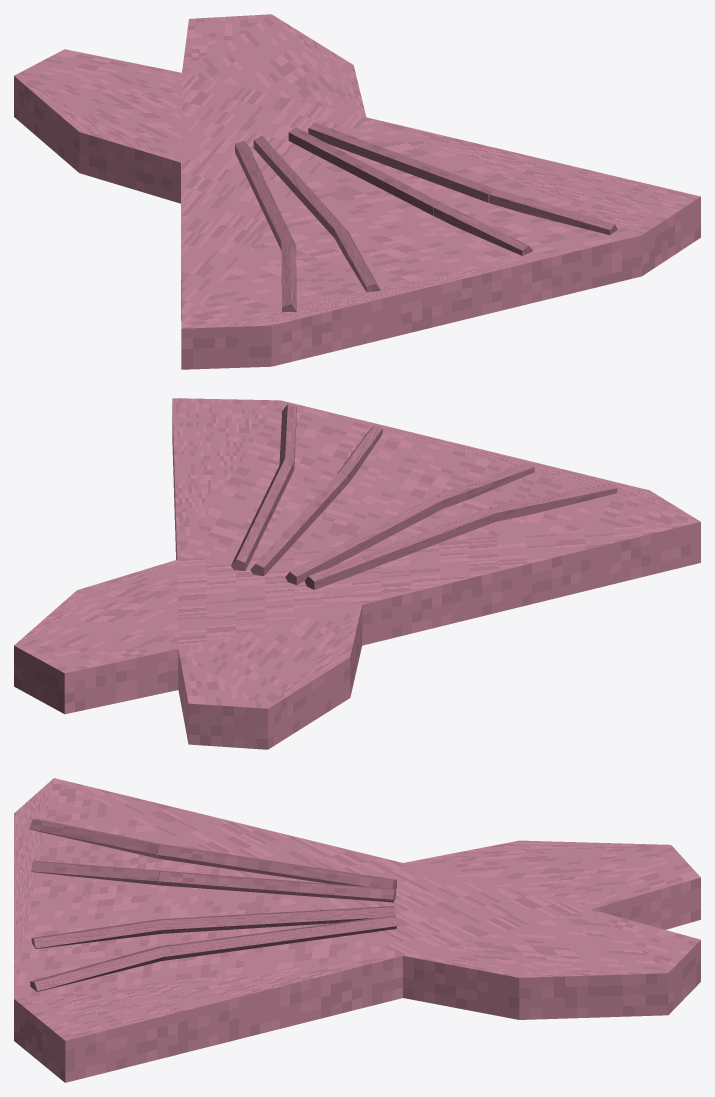
The model's file is short_dress.glb.
3 renders of one model, top to bottom at view 1: azimuth 30°, elevation 25°; view 2: azimuth 150°, elevation 25°; view 3: azimuth 270°, elevation 25°, orthographic. The views are drawn at different scales.
Visible parts, largest first — view 1: block_fitted dress and flared skirt, block_fabric fold 0 (×4), block_fabric fold 1 (×4); view 2: block_fitted dress and flared skirt, block_fabric fold 0 (×4), block_fabric fold 1 (×4); view 3: block_fitted dress and flared skirt, block_fabric fold 0 (×4), block_fabric fold 1 (×4).
Part boxes in pixels (x1,y1,x2,y2): block_fitted dress and flared skirt: (14, 14, 700, 369); block_fabric fold 0 (×4): (235, 122, 493, 249); block_fabric fold 1 (×4): (281, 188, 617, 312); block_fitted dress and flared skirt: (14, 398, 700, 749); block_fabric fold 0 (×4): (231, 458, 495, 589); block_fabric fold 1 (×4): (279, 404, 617, 521); block_fitted dress and flared skirt: (14, 778, 700, 1082); block_fabric fold 0 (×4): (157, 844, 397, 960); block_fabric fold 1 (×4): (29, 819, 163, 991).
Bounding box in the file's own units: 0.5383 × 0.0528 × 0.5947.
Materials: 1 (1 with a texture image).
